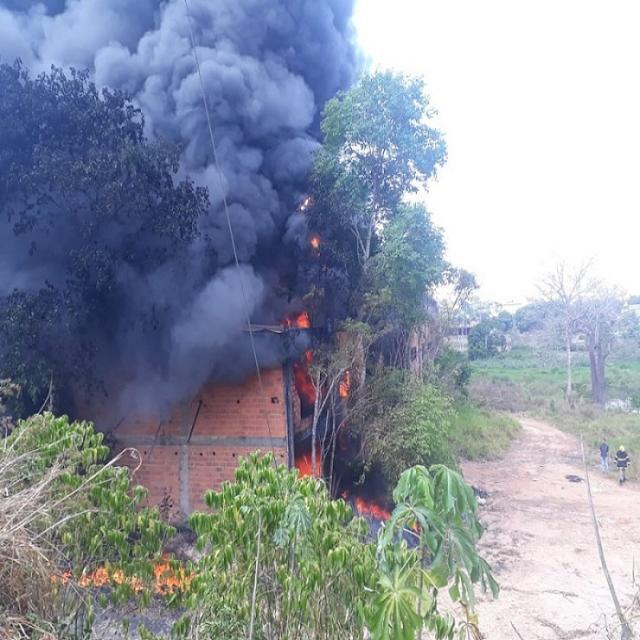Fire: (152, 561, 189, 590), (354, 496, 391, 524), (296, 362, 320, 402), (296, 444, 321, 474), (290, 307, 308, 330)
